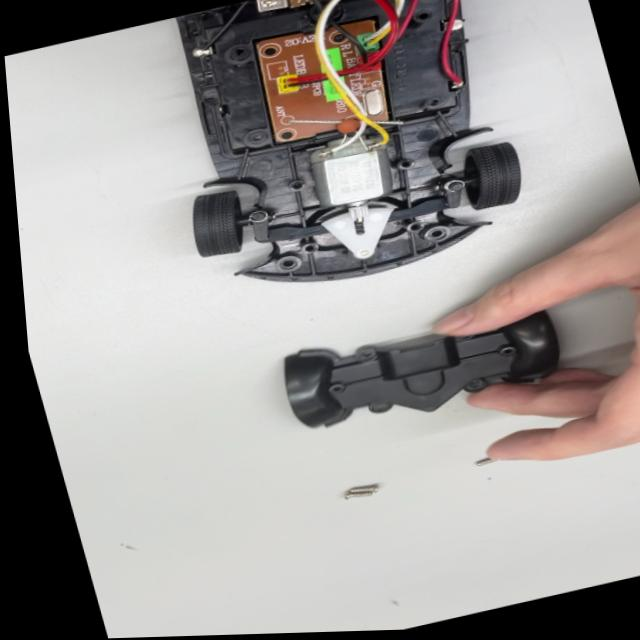Chassis: (134, 0, 533, 318)
motor: (290, 128, 414, 230)
motor_cover: (274, 309, 580, 434)
wheel: (449, 129, 553, 223), (175, 185, 265, 265)
